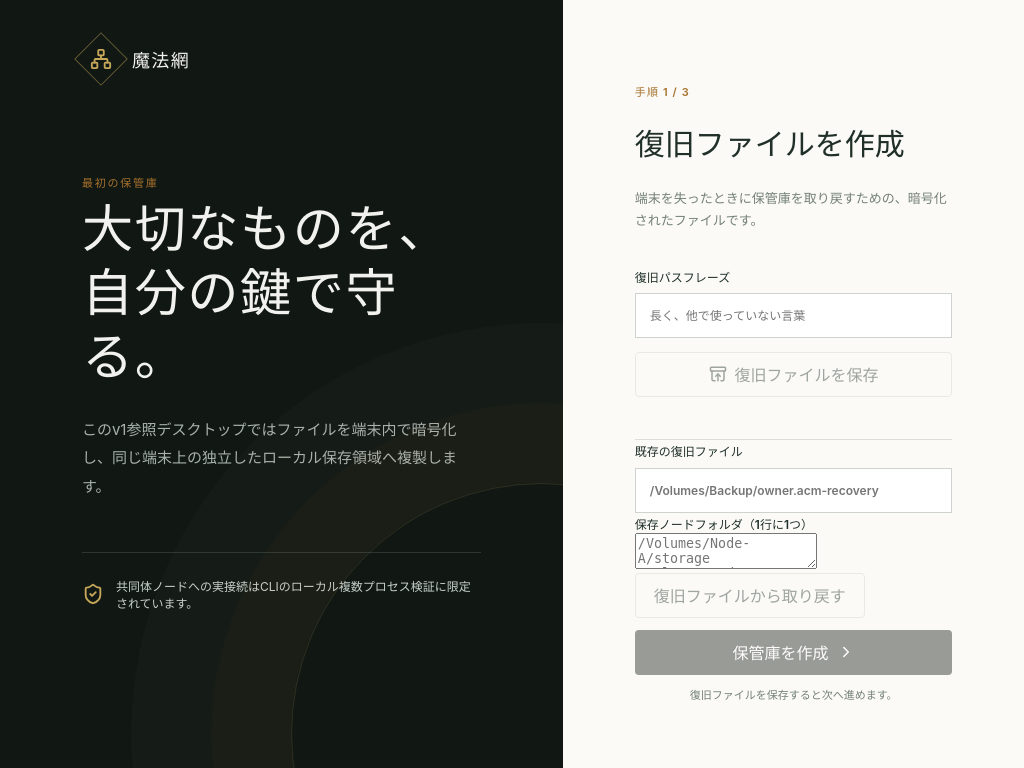
desktop safety flows › exposes language switching and non-weighted governance copy
expect the button "保管庫を作成" is disabled: met, box [635,630,952,675]
Type "very long recovery phrase" into the password field labelled "復旧パスフレーズ" at (794, 315), box [635,293,952,338]
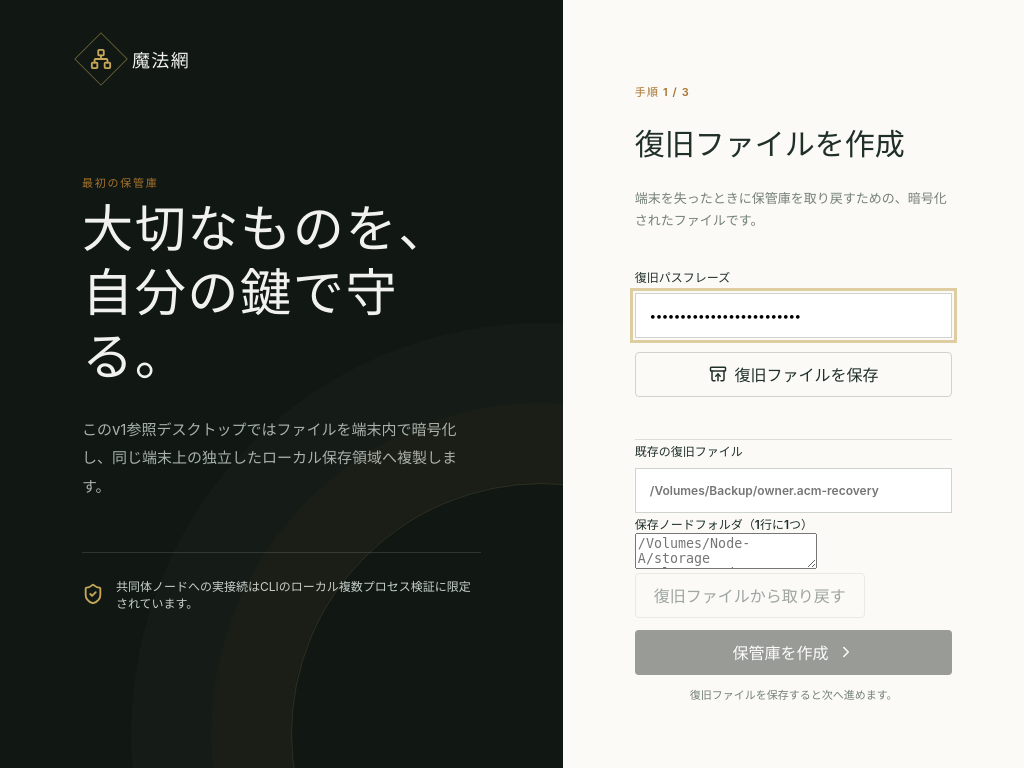
Click the button "復旧ファイルを保存" at (794, 374), box [635,352,952,397]
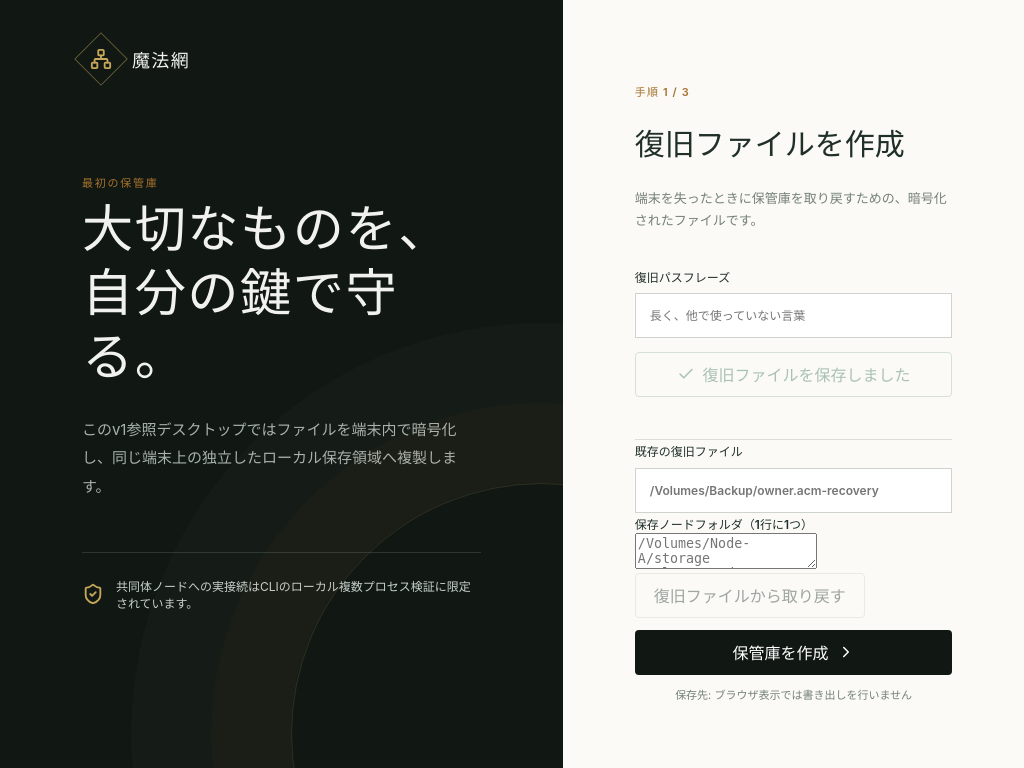
expect the button "保管庫を作成" is enabled: met
Click the button "保管庫を作成" at (794, 652), box [635,630,952,675]
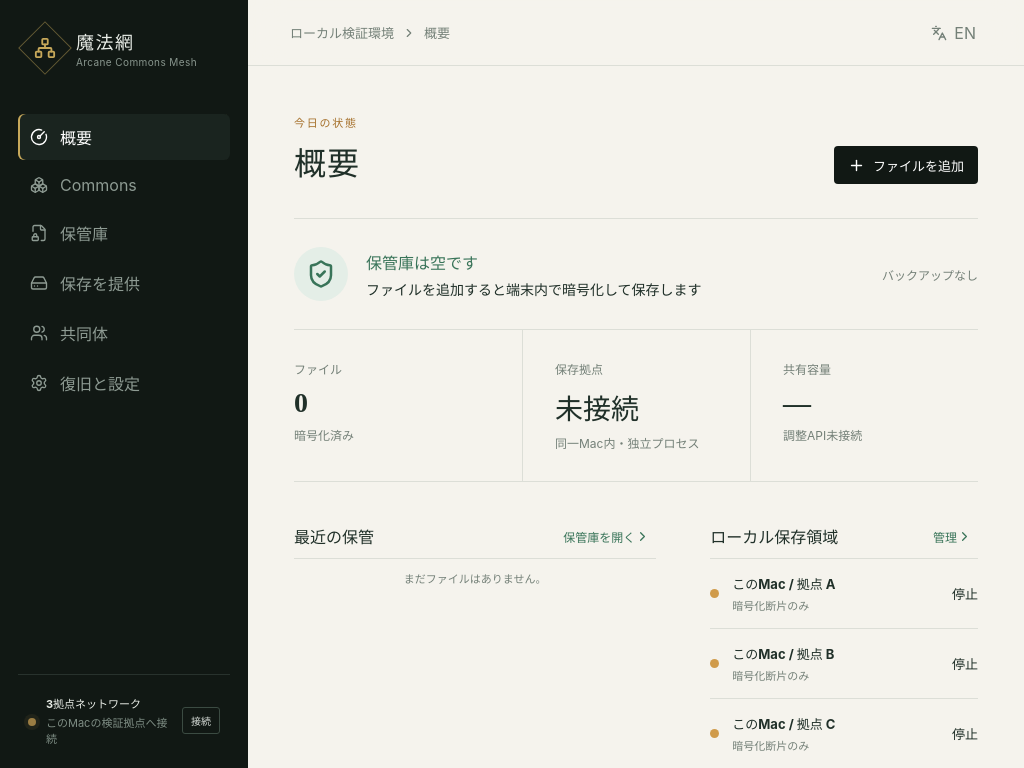
Click the button "共同体" at (124, 333), box [18,310,230,356]
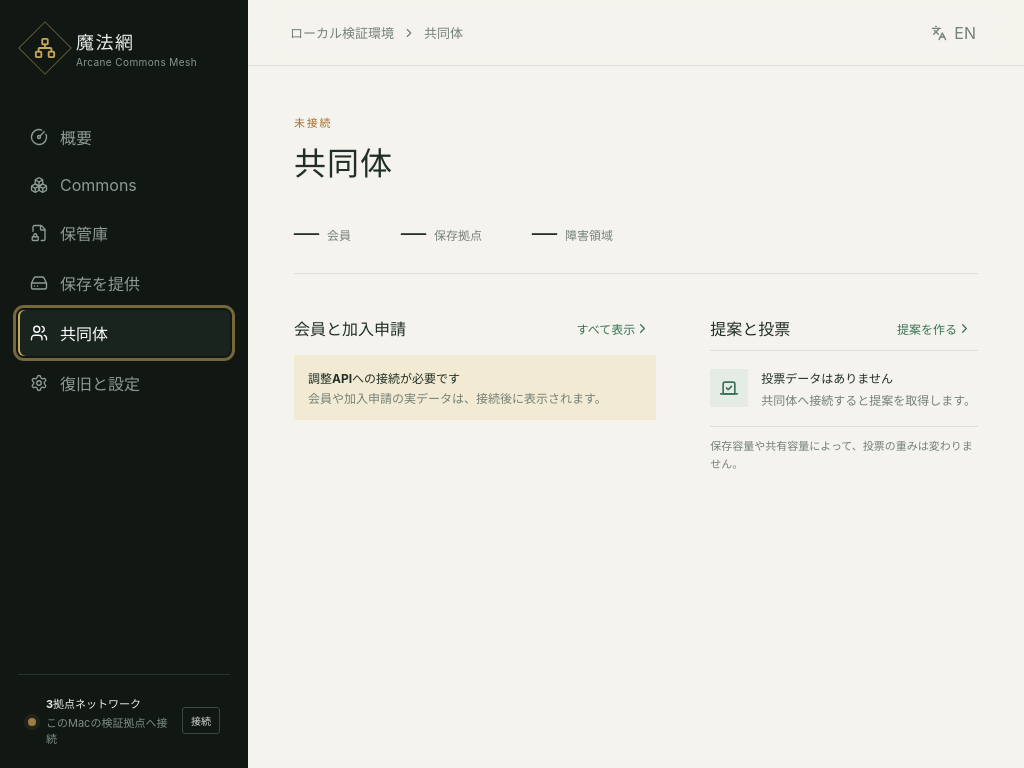
expect the text "保存容量や共有容量によって、投票の重みは変わりません。" is shown: met, box [710,438,978,473]
Click the button "EN" at (954, 32), box [925,22,982,44]
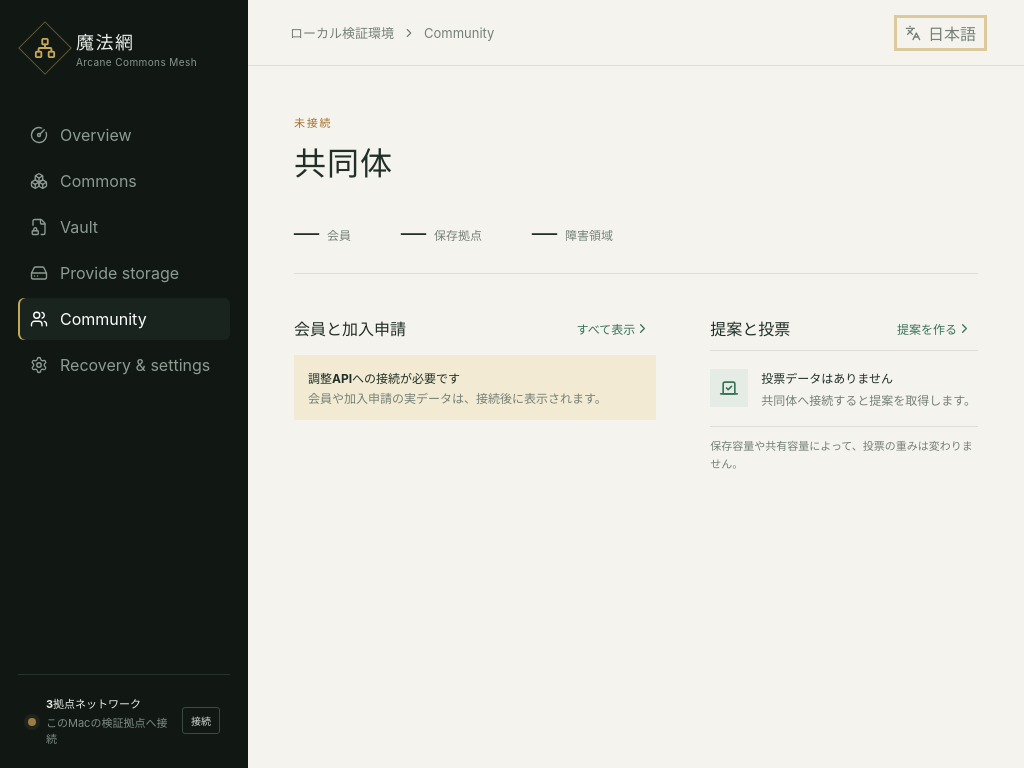
expect the button "Community" is shown: met, box [18,298,230,340]
